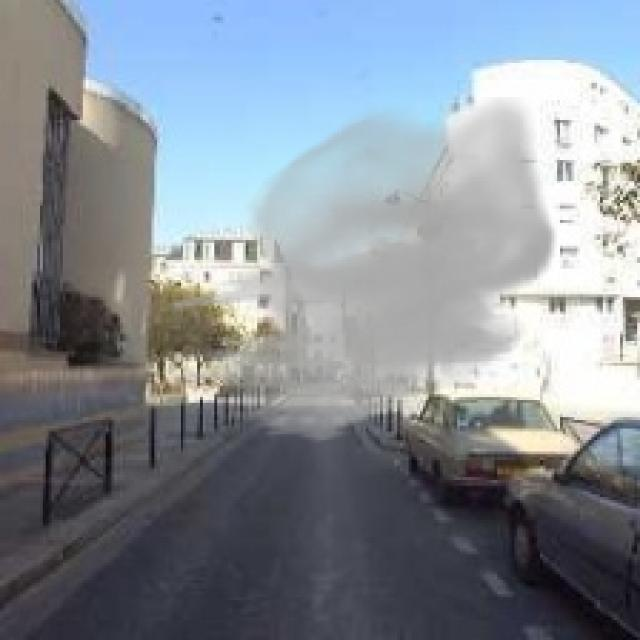Smoke: (168, 97, 558, 446)
